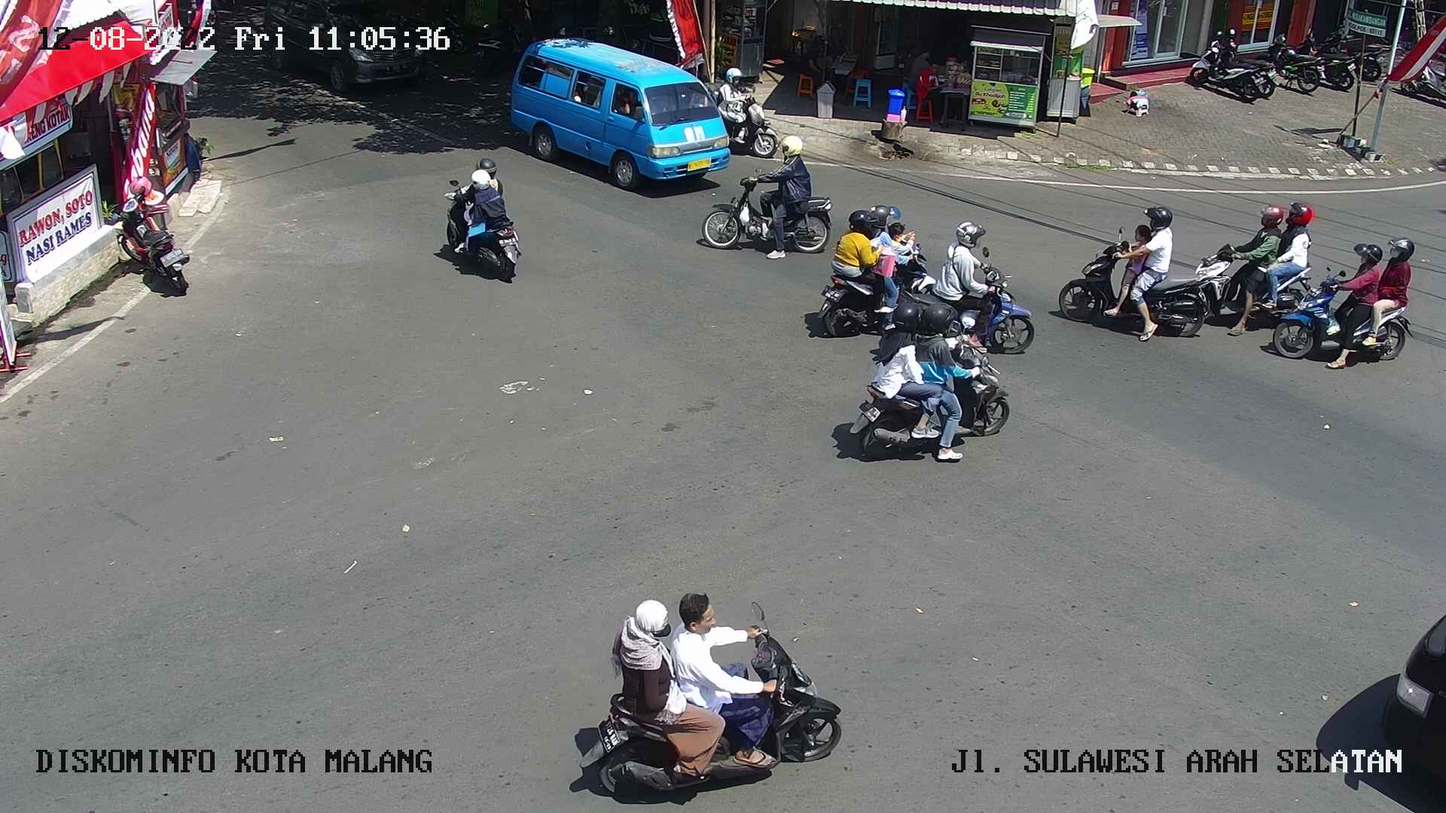with_helmet: (844, 302, 1020, 470), (1058, 203, 1213, 345), (1280, 237, 1420, 379), (1184, 197, 1316, 339), (695, 133, 839, 262), (811, 208, 939, 339), (930, 216, 1044, 351), (437, 149, 530, 283)
without_helmet: (551, 582, 857, 804)
